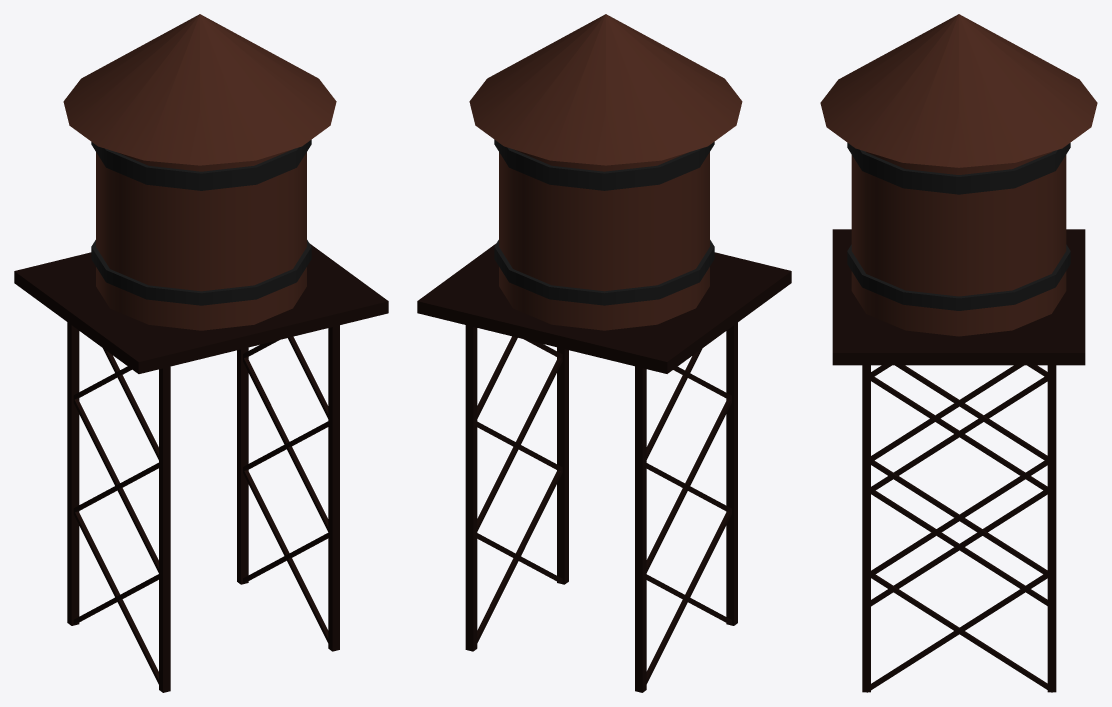
The model's file is cysterna.FBX.
The picture shows the model from 3 angles, left to right: view 1: azimuth 30°, elevation 25°; view 2: azimuth 150°, elevation 25°; view 3: azimuth 270°, elevation 25°; orthographic projection.
Visible parts, largest first — view 1: Cylinder001; view 2: Cylinder001; view 3: Cylinder001.
Part boxes in pixels (x1=…): Cylinder001: x1=14, y1=14, x2=388, y2=692; Cylinder001: x1=417, y1=14, x2=791, y2=692; Cylinder001: x1=820, y1=14, x2=1097, y2=692.
Bounding box in the file's own units: 67.48 × 161 × 63.87.
